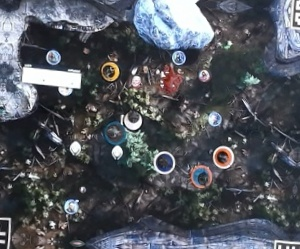blue: (151, 151, 175, 175)
brown_turquoise: (103, 120, 128, 145)
giant_red_octopus: (159, 62, 187, 94)
light_blue_orange: (189, 163, 214, 187)
white: (121, 107, 146, 132)
yellow_night_blue: (97, 57, 126, 85), (211, 144, 236, 169)
